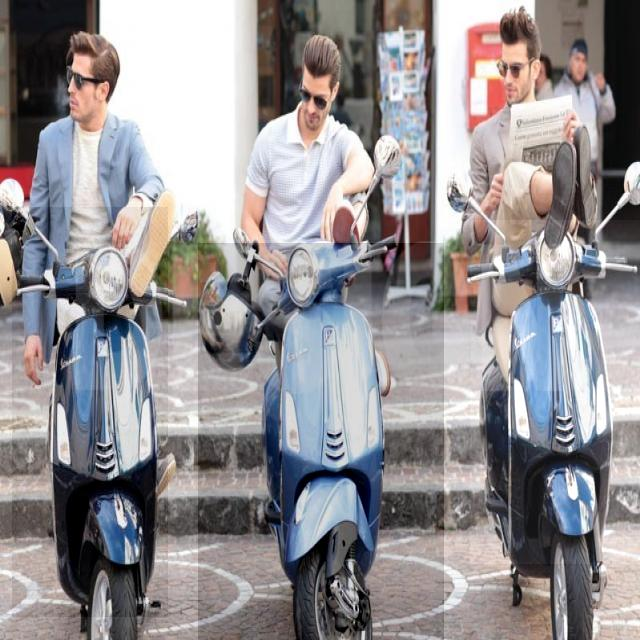Bike: (198, 243, 444, 640), (13, 208, 168, 618), (470, 220, 640, 564)
